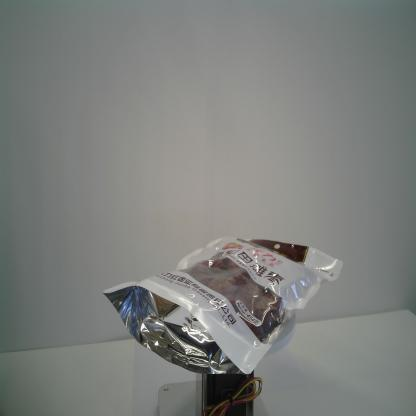Dried Food: (100, 233, 345, 380)
